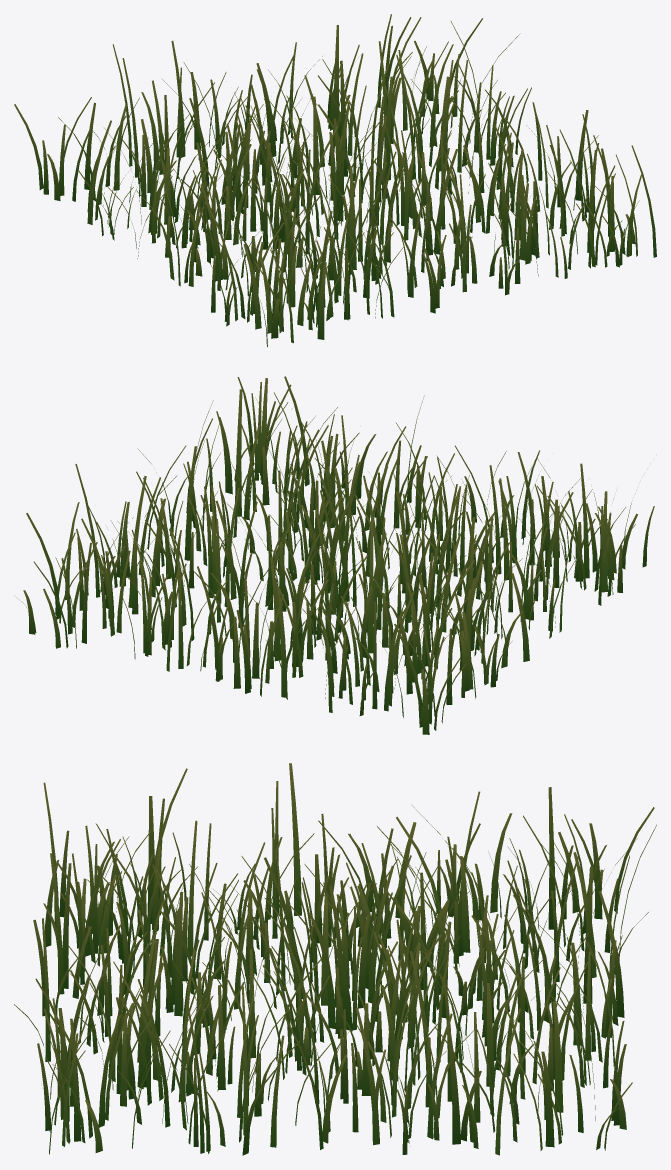
File: Turf_Wild_v3.glb
3 views of the same model, one above another, from view 1: azimuth 30°, elevation 25°; view 2: azimuth 150°, elevation 25°; view 3: azimuth 270°, elevation 25° (orthographic). The views are drawn at different scales.
Parts seen in each view (by area): view 1: Turf_Wild_v3; view 2: Turf_Wild_v3; view 3: Turf_Wild_v3.
Part boxes in pixels (x1,y1,x2,y2): Turf_Wild_v3: (14,14,656,347); Turf_Wild_v3: (14,376,654,734); Turf_Wild_v3: (14,763,656,1155).
Bounding box in the file's own units: 1.37 × 0.3465 × 1.35.
